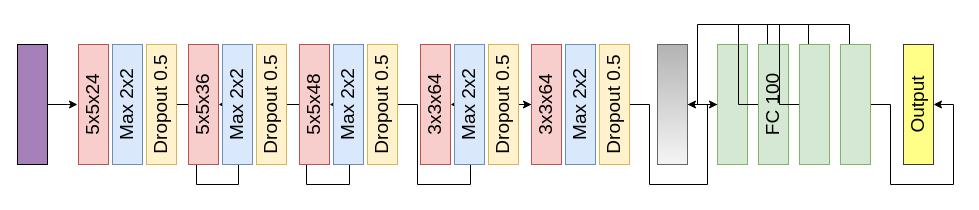
Some shapes in this 979 by 210 pixel diagram are drawn without their labels. Each missing label, with the centre of its shape:
"64x64x3" goes at pixel 32 104.
"FC 10" goes at pixel 855 104.
"FC 1164" goes at pixel 732 104.
"FC 50" goes at pixel 814 104.
"Flatten" goes at pixel 672 104.
